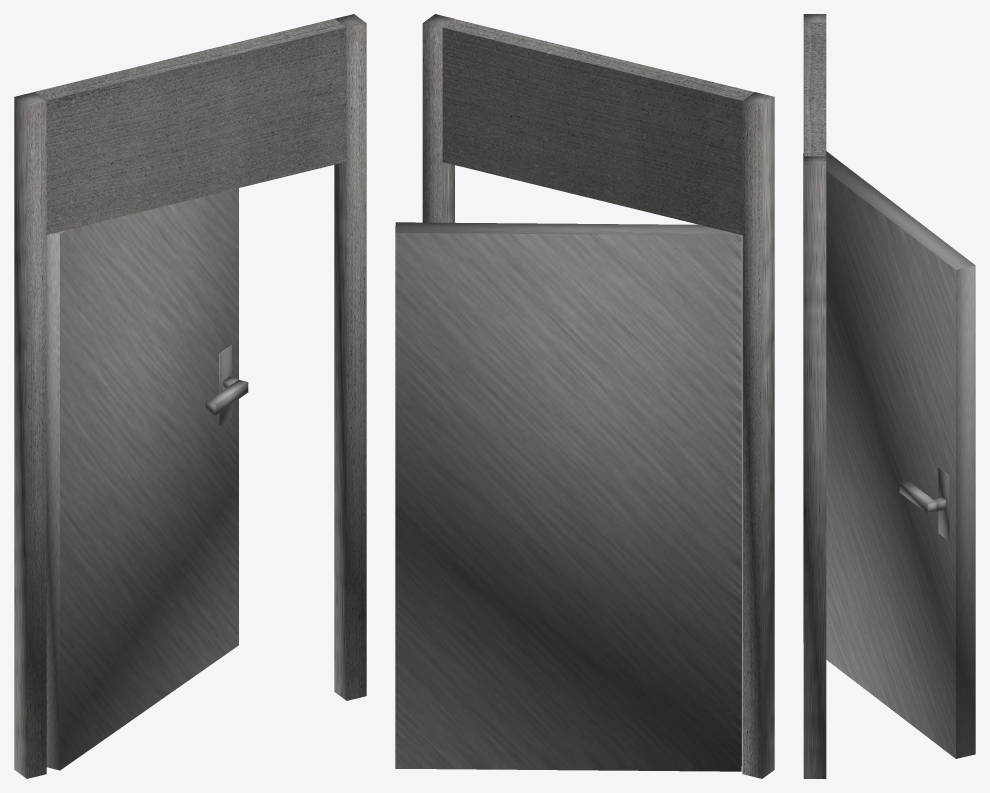
File: metaldoor_000002.obj
3 renders of one model, left to right at view 1: azimuth 30°, elevation 25°; view 2: azimuth 150°, elevation 25°; view 3: azimuth 270°, elevation 25°, orthographic. The views are drawn at different scales.
Parts seen in each view (by area): view 1: Cube.004_Cube.005, Cube.006_Cube.007; view 2: Cube.004_Cube.005, Cube.006_Cube.007; view 3: Cube.004_Cube.005, Cube.006_Cube.007.
Part boxes in pixels (<box>): Cube.004_Cube.005: <box>46,188,248,770</box>; Cube.006_Cube.007: <box>14,14,366,778</box>; Cube.004_Cube.005: <box>395,222,741,771</box>; Cube.006_Cube.007: <box>422,14,774,778</box>; Cube.004_Cube.005: <box>803,151,975,758</box>; Cube.006_Cube.007: <box>803,14,826,778</box>.
Bounding box in the file's own units: 1.58 × 3 × 0.7638.
